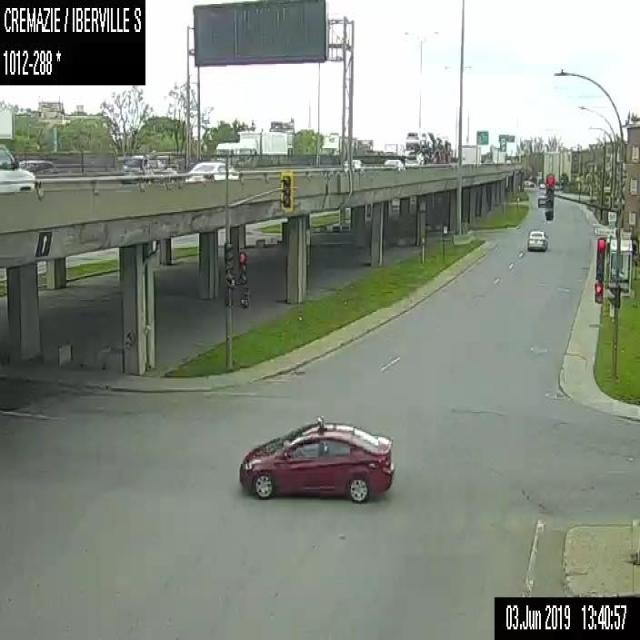bus: (215, 140, 239, 166)
vehicle: (239, 413, 394, 504), (0, 108, 35, 192), (404, 125, 450, 167), (237, 128, 287, 166), (122, 154, 177, 182), (184, 159, 238, 181), (320, 134, 357, 164), (19, 158, 58, 176), (461, 144, 481, 168), (526, 228, 546, 251), (383, 141, 405, 161), (405, 150, 423, 166), (406, 129, 422, 147), (343, 158, 365, 171), (382, 159, 404, 170), (492, 146, 504, 164), (427, 132, 437, 147), (420, 131, 429, 146), (537, 194, 545, 207), (434, 135, 442, 147), (422, 151, 428, 164), (539, 182, 545, 188), (506, 158, 510, 164)
